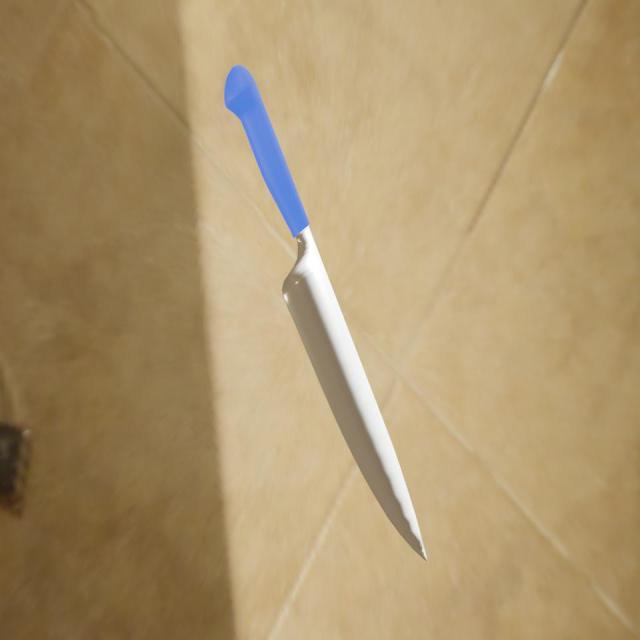knife: (224, 64, 310, 240)
